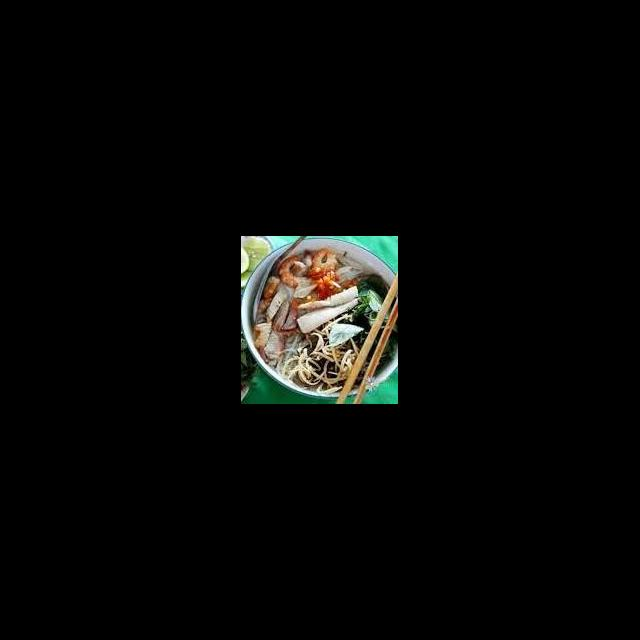ca: (296, 284, 360, 337)
thit heo quay: (272, 296, 300, 333), (264, 288, 288, 325), (264, 330, 288, 366)
tom: (276, 252, 316, 289), (308, 246, 342, 277)
